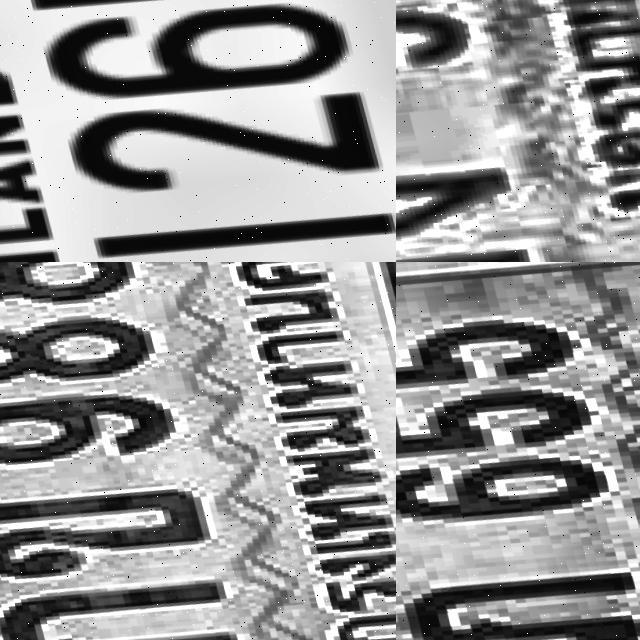license-plate: (0, 262, 396, 640), (0, 0, 396, 262), (396, 262, 640, 640), (396, 0, 640, 262)
